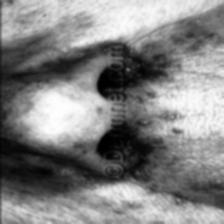Toxin: (129, 144, 163, 160), (139, 68, 158, 82), (164, 114, 178, 122)
